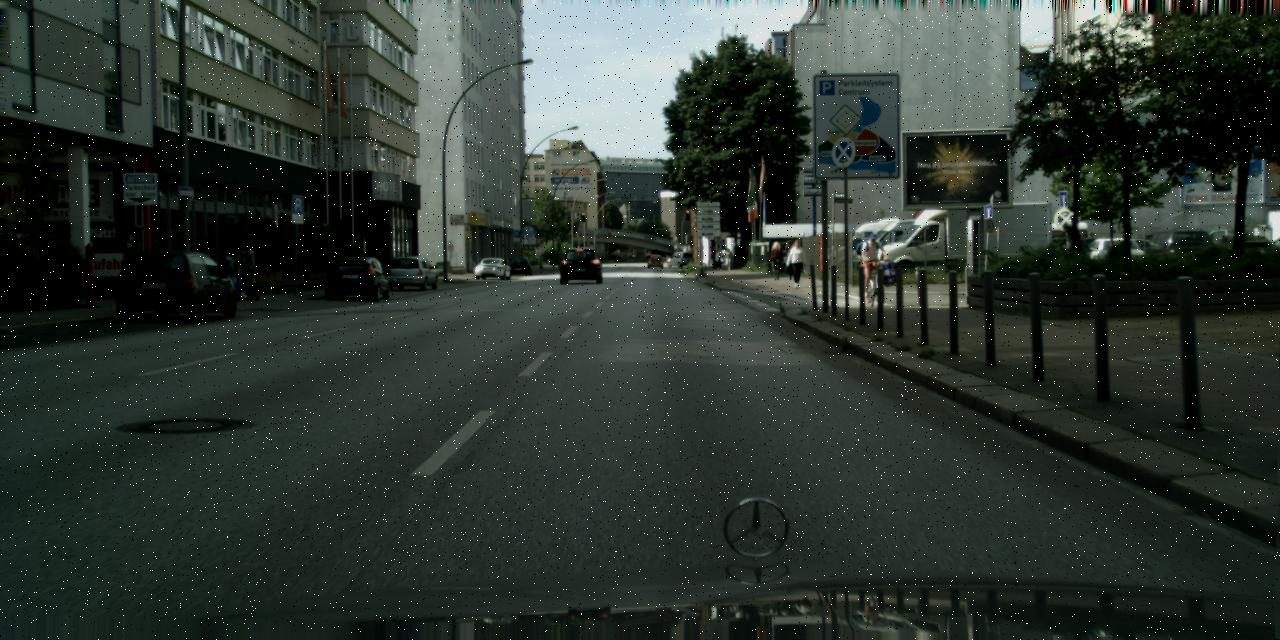ped: (858, 234, 883, 297), (235, 242, 258, 298), (220, 244, 241, 297), (786, 238, 806, 288), (782, 239, 798, 279), (769, 241, 784, 280), (714, 248, 724, 270), (722, 248, 732, 270), (709, 246, 718, 266)
